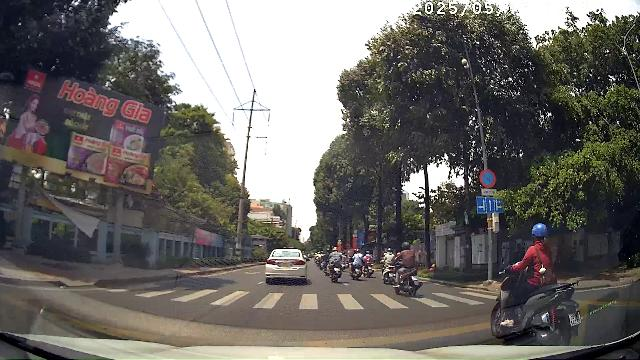131a-cam-do-xe: (479, 169, 496, 188)
